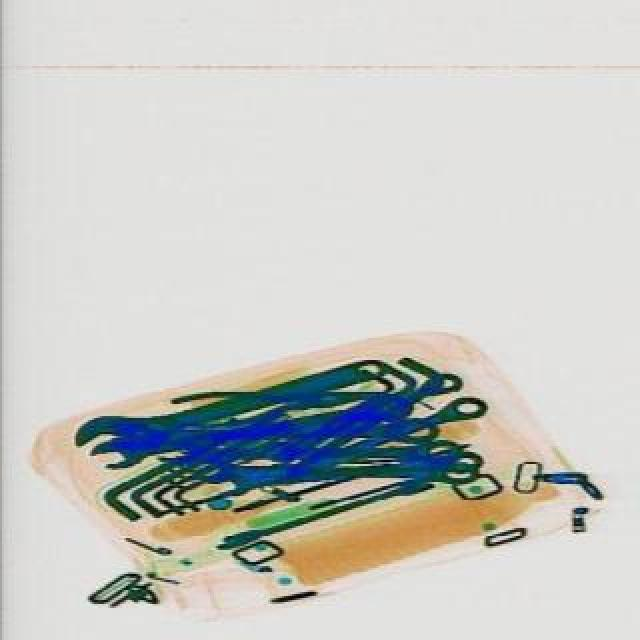scissors: (64, 342, 388, 468), (86, 390, 410, 474), (206, 456, 476, 496)
